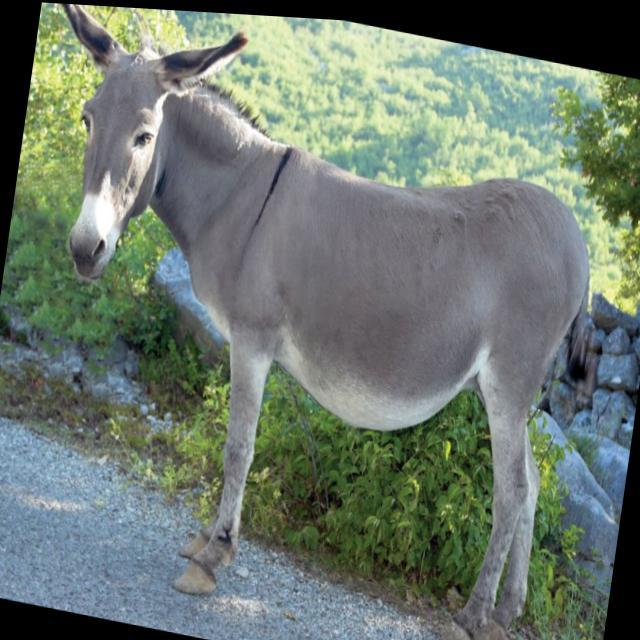Donkey: (0, 0, 612, 615)
